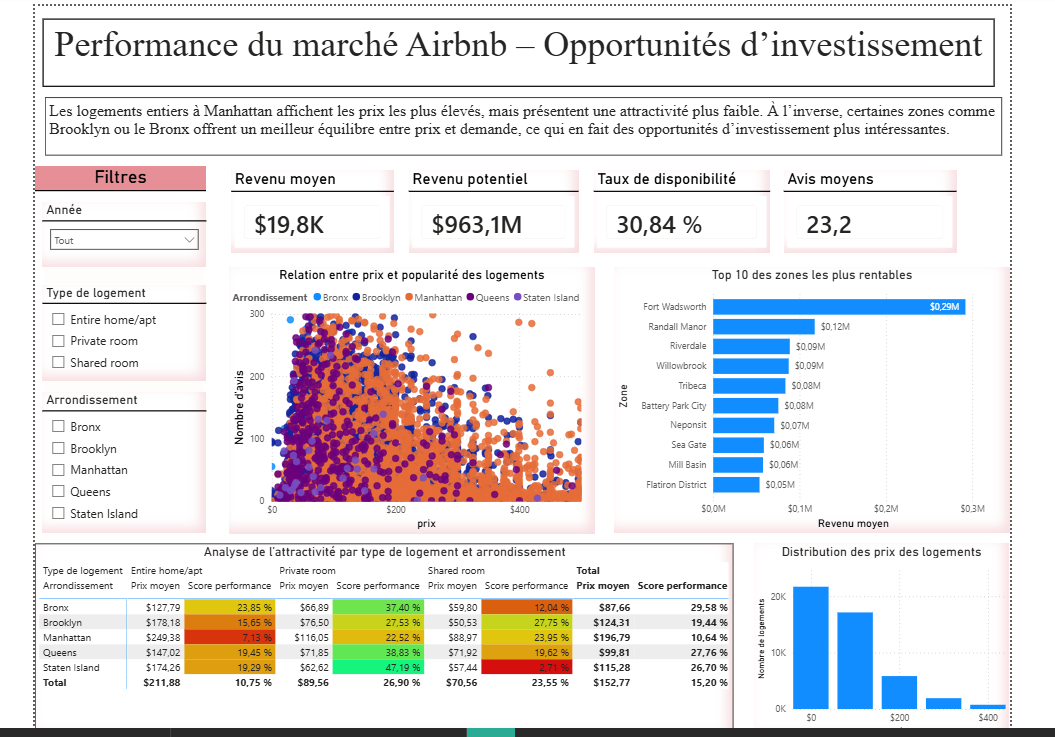

The page's visual inventory and layout, read from the dashboard file:
{"tool":"powerbi","page":{"name":"Performance & opportunités Airbnb","canvas":[1300,1000],"ordinal":1},"visuals":[{"type":"shape","title":"Filtres","box":[0,213.3,228.3,490],"z":0},{"type":"textbox","box":[10.2,16.9,1269.5,91.5],"z":1000},{"type":"cardVisual","title":"Revenu potentiel","fields":{"Data":["AB_NYC_2019 (2).Revenu potentiel"]},"box":[498,217.7,226.7,110],"z":2000},{"type":"cardVisual","title":"Revenu moyen","fields":{"Data":["AB_NYC_2019 (2).Revenu moyen"]},"box":[261.3,217.7,216.7,110],"z":3000},{"type":"cardVisual","title":"Taux de disponibilité","fields":{"Data":["AB_NYC_2019 (2).Taux de disponibilité"]},"box":[744.7,217.7,235,110],"z":4000},{"type":"cardVisual","title":"Avis moyens","fields":{"Data":["AB_NYC_2019 (2).Avis moyens"]},"box":[998,217.7,230,110],"z":5000},{"type":"clusteredBarChart","title":"Top 10 des zones les plus rentables","fields":{"Category":["AB_NYC_2019 (2).neighbourhood"],"Y":["AB_NYC_2019 (2).Revenu moyen"]},"box":[771.2,349.2,528.8,354.2],"z":6000},{"type":"clusteredColumnChart","title":"Distribution des prix des logements","fields":{"Category":["AB_NYC_2019 (2).price (compartiments)"],"Y":["CountNonNull(AB_NYC_2019 (2).logements)"]},"box":[959,716.4,341,260.7],"z":7000},{"type":"slicer","title":"Arrondissement","fields":{"Values":["AB_NYC_2019 (2).Arrondissement"]},"box":[10,515,218.3,188.3],"z":8000},{"type":"slicer","title":"Type de logement","fields":{"Values":["AB_NYC_2019 (2).Type de logement"]},"box":[10,371.7,218.3,128.3],"z":9000},{"type":"pivotTable","title":"Analyse de l’attractivité par type de logement et arrondissement","fields":{"Rows":["AB_NYC_2019 (2).Arrondissement"],"Columns":["AB_NYC_2019 (2).Type de logement"],"Values":["Avg(AB_NYC_2019 (2).price)","AB_NYC_2019 (2).Score performance"]},"box":[0,716.4,931.1,260.7],"z":10000},{"type":"slicer","title":"Année","fields":{"Values":["AB_NYC_2019 (2).last_review.Variation.Hiérarchie de dates.Année"]},"box":[10,261.7,218.3,86.7],"z":11000},{"type":"textbox","box":[13.6,122,1276.3,78],"z":12000},{"type":"scatterChart","title":"Relation entre prix et popularité des logements","fields":{"X":["AB_NYC_2019 (2).price"],"Y":["AB_NYC_2019 (2).Nombre d’avis"],"Series":["AB_NYC_2019 (2).Arrondissement"]},"box":[258.3,348.3,488.3,355],"z":13000}]}

Visuals, with their boxes on the page's 1300x1000 design canvas (x1, y1, x2, y2). These are canvas units, not pixel positions in the 1055x737 screenshot, which may show the page scaled, cropped or inside an application window:
"Filtres" shape: x1=0, y1=213, x2=228, y2=703
textbox: x1=10, y1=17, x2=1280, y2=108
"Revenu potentiel" cardVisual: x1=498, y1=218, x2=725, y2=328
"Revenu moyen" cardVisual: x1=261, y1=218, x2=478, y2=328
"Taux de disponibilité" cardVisual: x1=745, y1=218, x2=980, y2=328
"Avis moyens" cardVisual: x1=998, y1=218, x2=1228, y2=328
"Top 10 des zones les plus rentables" clusteredBarChart: x1=771, y1=349, x2=1300, y2=703
"Distribution des prix des logements" clusteredColumnChart: x1=959, y1=716, x2=1300, y2=977
"Arrondissement" slicer: x1=10, y1=515, x2=228, y2=703
"Type de logement" slicer: x1=10, y1=372, x2=228, y2=500
"Analyse de l’attractivité par type de logement et arrondissement" pivotTable: x1=0, y1=716, x2=931, y2=977
"Année" slicer: x1=10, y1=262, x2=228, y2=348
textbox: x1=14, y1=122, x2=1290, y2=200
"Relation entre prix et popularité des logements" scatterChart: x1=258, y1=348, x2=747, y2=703
